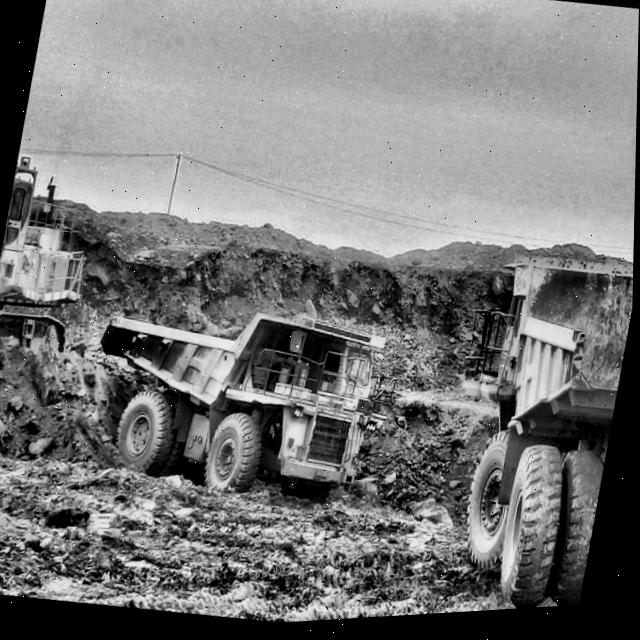dump_truck: (465, 253, 635, 615), (105, 319, 387, 504)
excavator: (0, 165, 87, 352)
